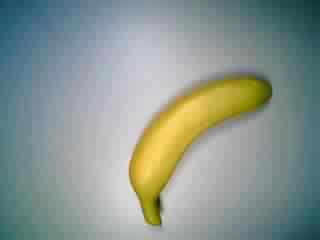banana: (125, 68, 275, 229)
